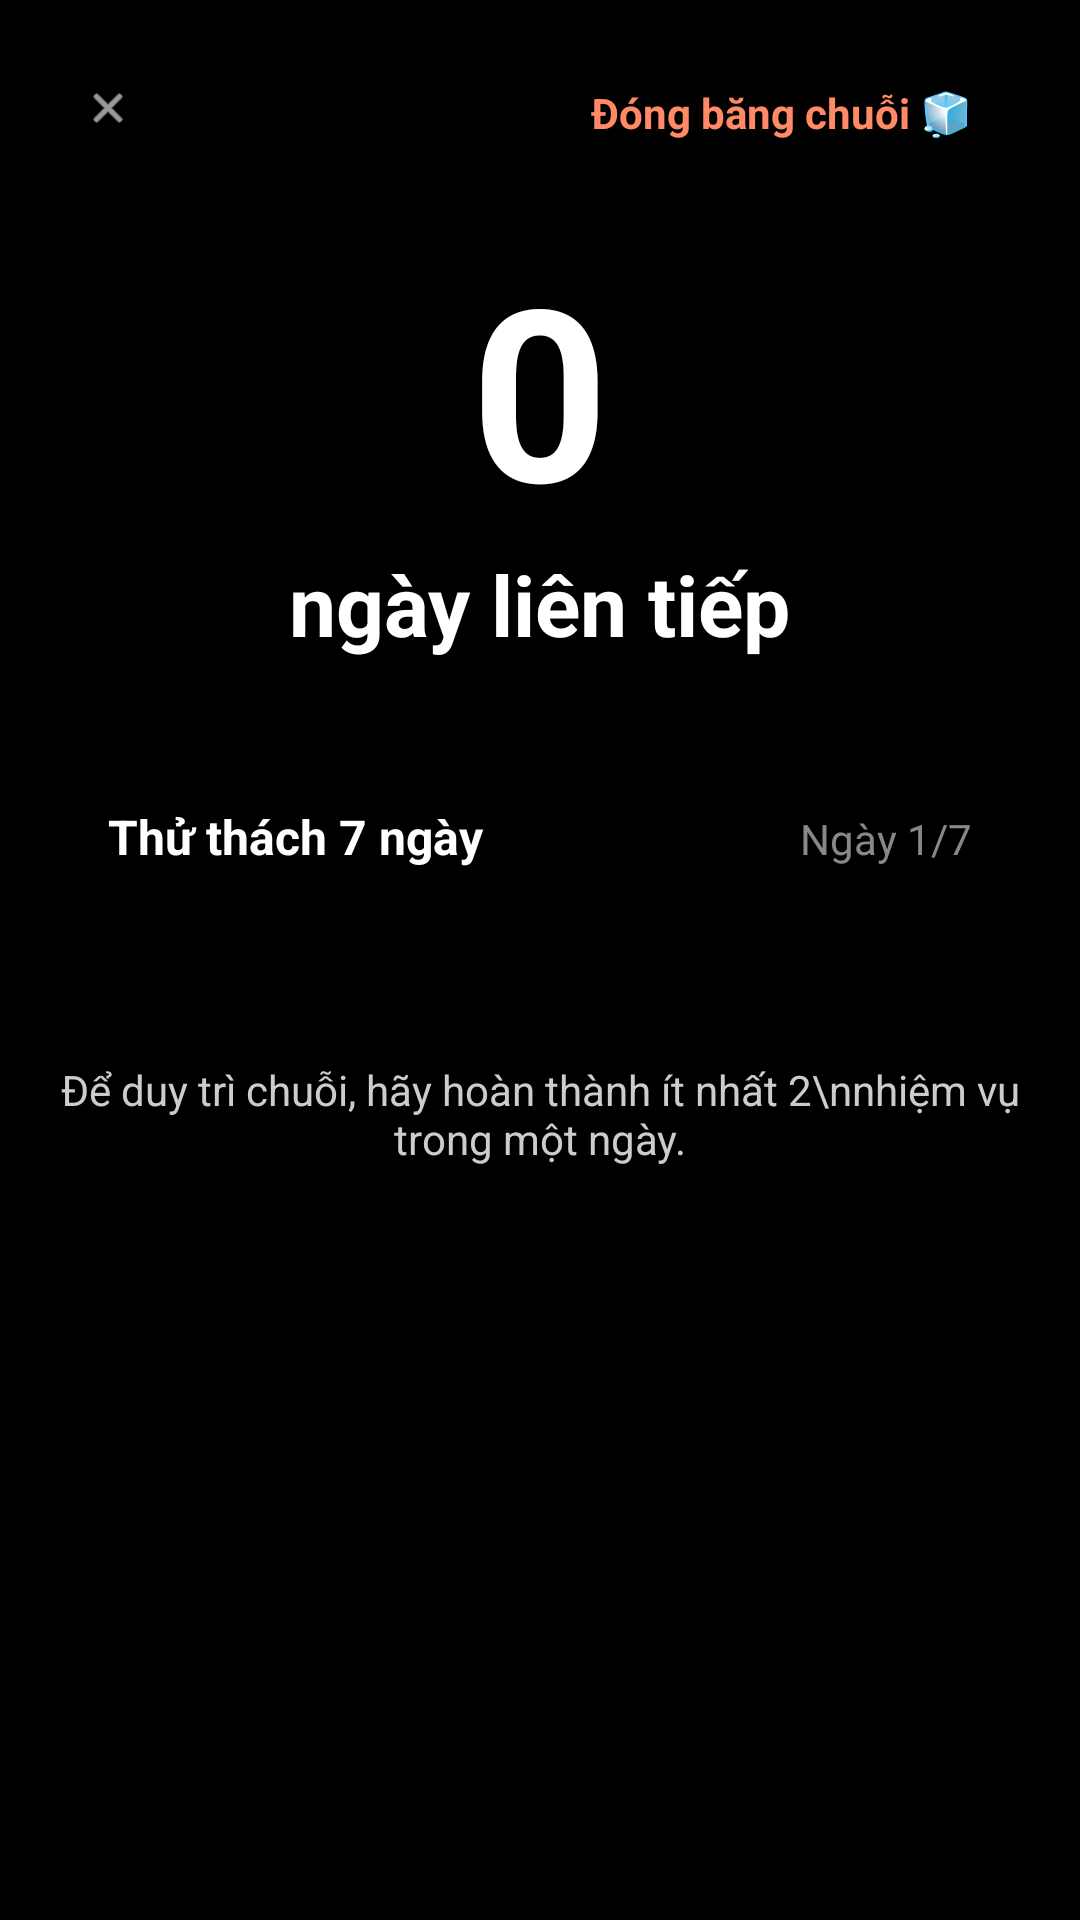

Where icons sit on this 1080x1920 app screen, as {"left": x1, "top": y1, "right": x2, "bottom": y2}:
close clear cancel: {"left": 93, "top": 93, "right": 123, "bottom": 123}
